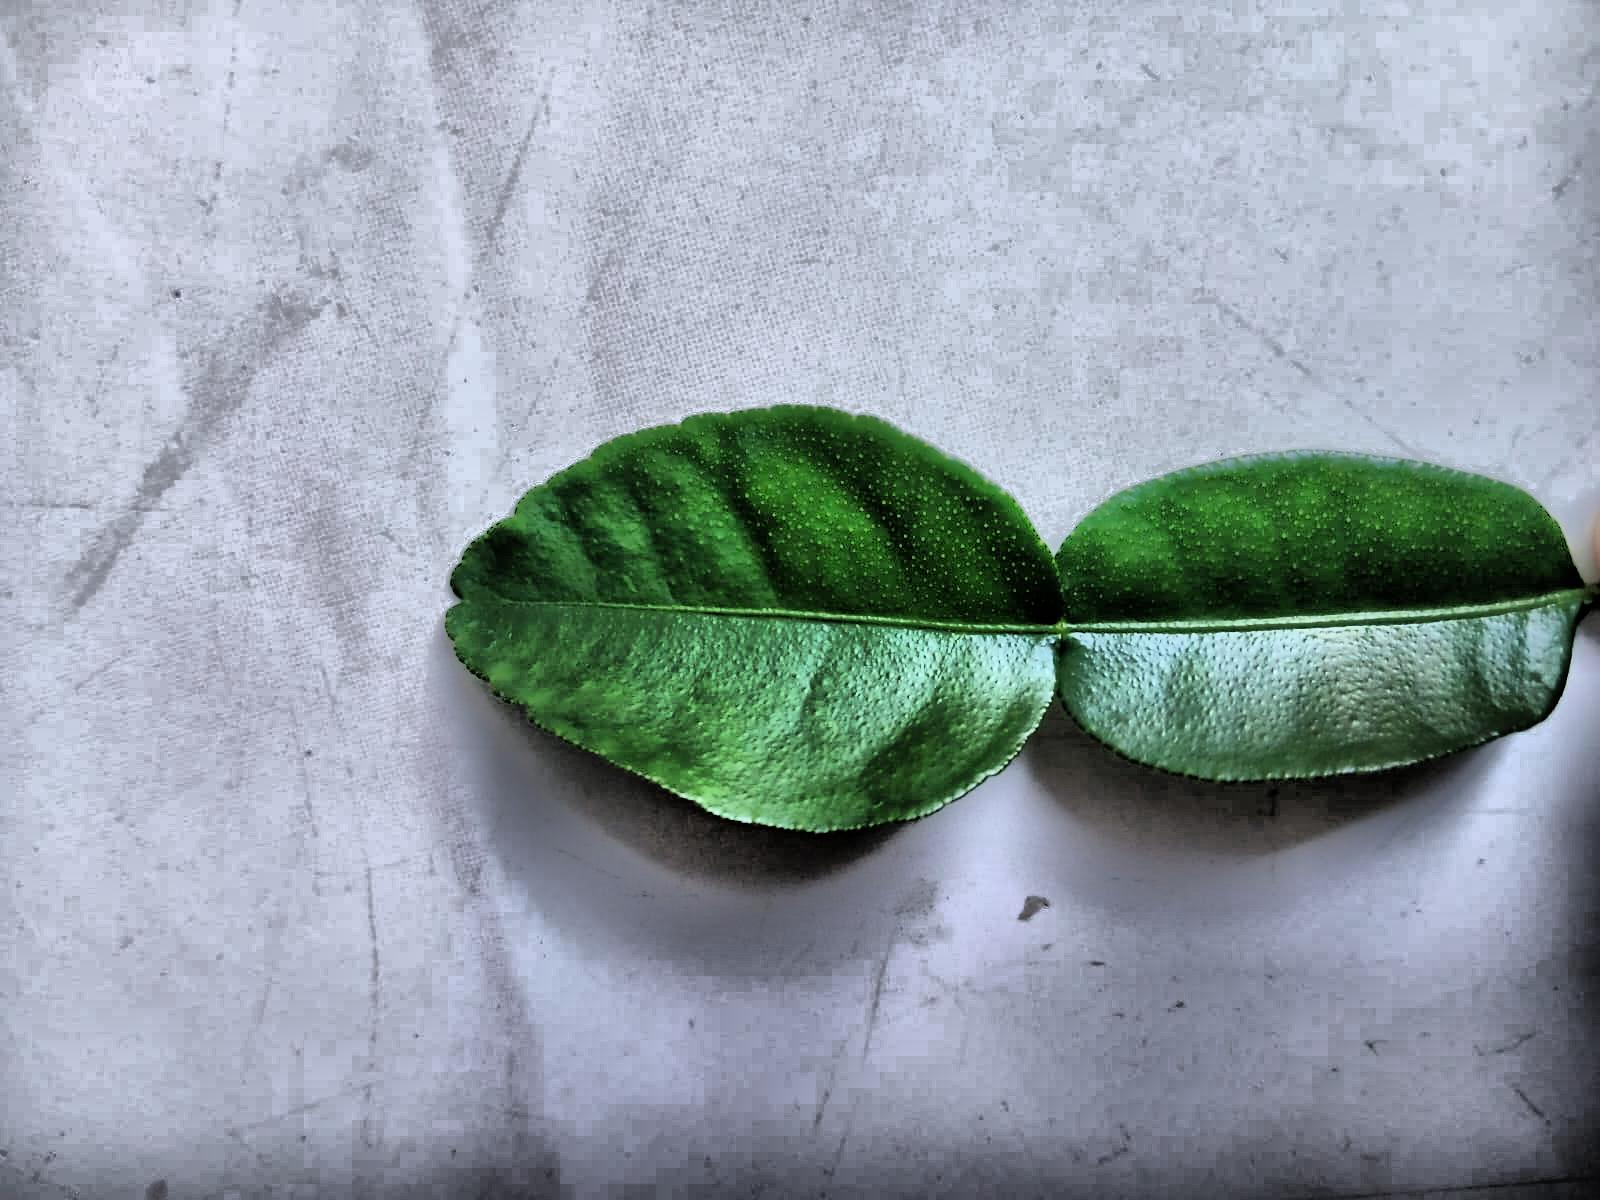daun jeruk: (445, 406, 1599, 832)
